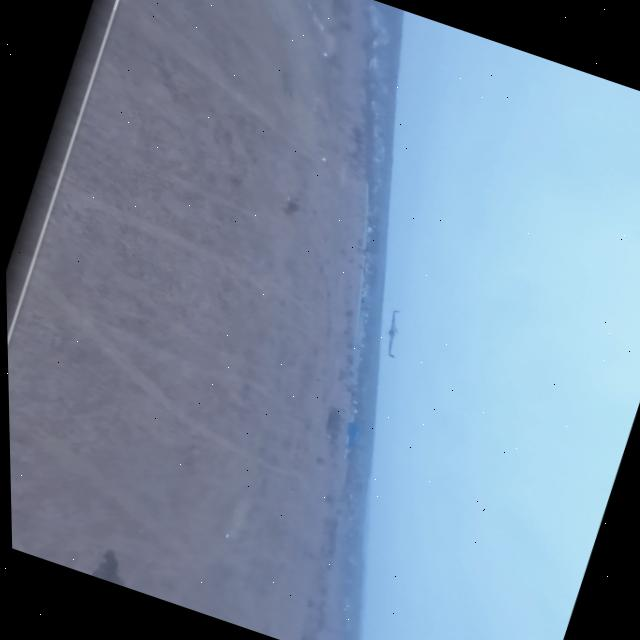planedrone: (374, 306, 411, 362)
